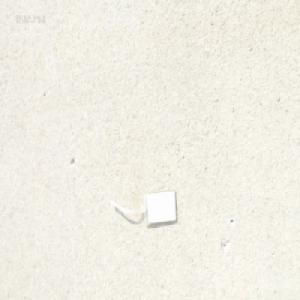LuggageTag: (106, 185, 177, 227)
